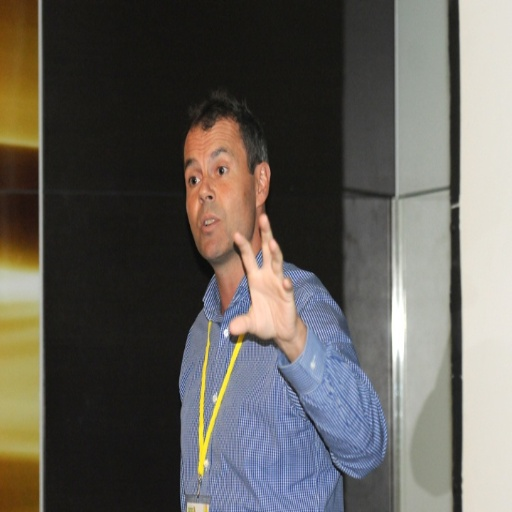hand: (241, 228, 310, 393)
